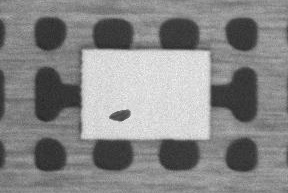DIE_INK: (107, 108, 132, 123)
